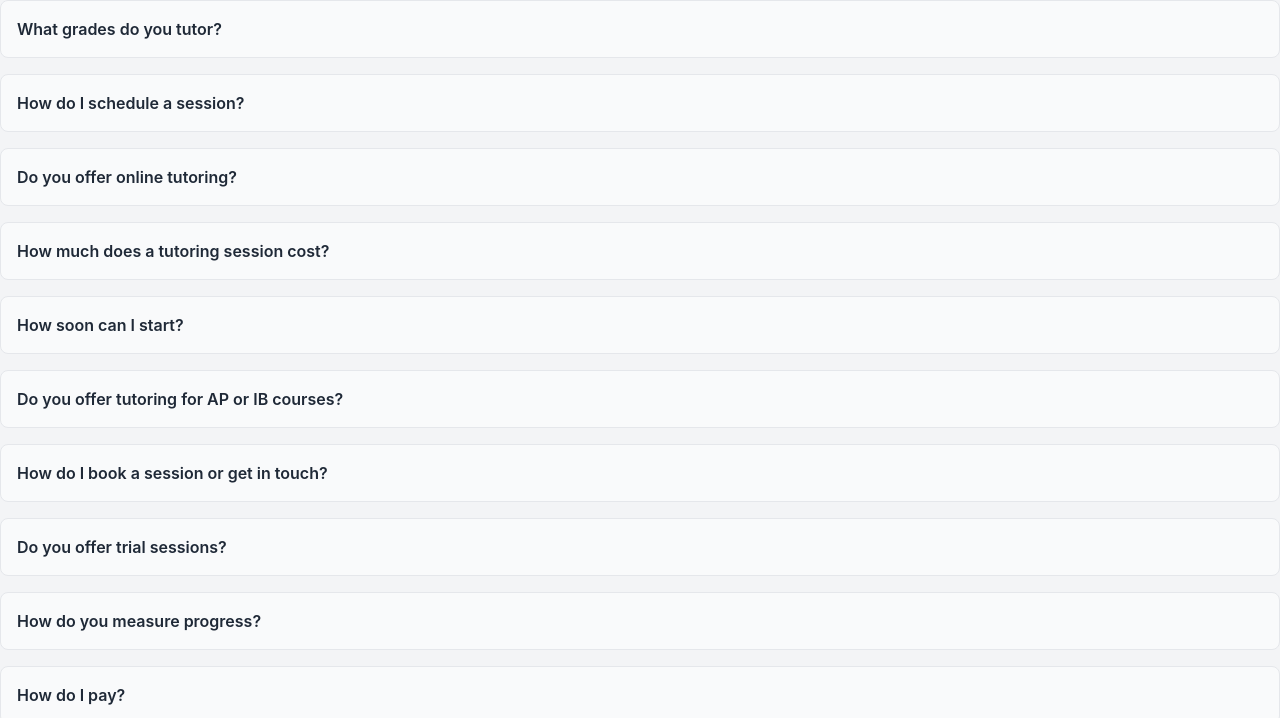
Test: FAQ Component › expands and collapses FAQ items when clicked
This screenshot has width=1280, height=718.
// Click to expand
What coordinates should you click on to do the following:
click the heading "What grades do you tutor?"
I would click on:
 (119, 29)
Its box is [17, 19, 222, 39].
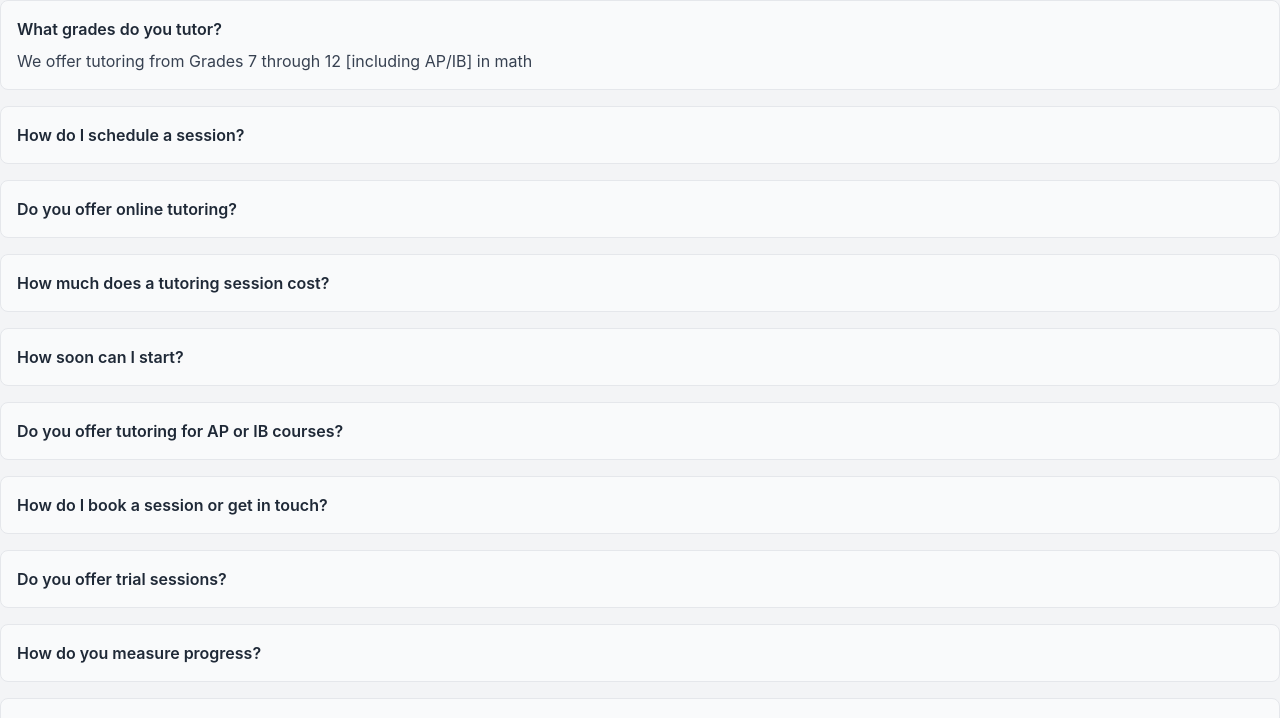
Expected: the text "We offer tutoring from Grades 7 through 12 [including AP/IB] in math" is shown, [17, 51, 532, 71]
